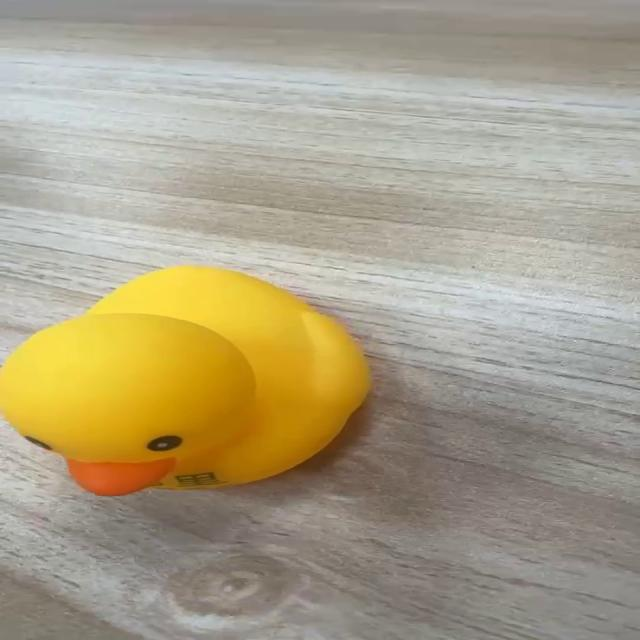yellow_duck: (1, 263, 372, 497)
